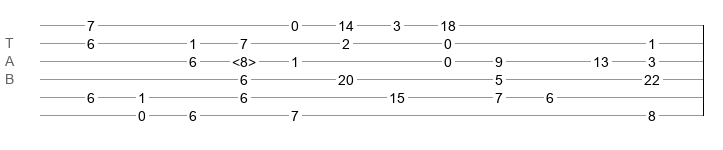0: (138, 108, 146, 118), (291, 18, 299, 28), (444, 54, 452, 64), (444, 36, 452, 46)
1: (138, 90, 146, 100), (189, 36, 197, 46), (291, 54, 299, 64), (648, 36, 656, 46)
13: (593, 54, 609, 64)
14: (338, 18, 354, 28)
15: (389, 90, 405, 100)
18: (440, 18, 456, 28)
2: (342, 36, 350, 46)
20: (338, 72, 354, 82)
22: (644, 72, 660, 82)
3: (393, 18, 401, 28), (648, 54, 656, 64)
5: (495, 72, 503, 82)
6: (87, 36, 95, 46), (87, 90, 95, 100), (189, 108, 197, 118), (189, 54, 197, 64), (240, 72, 248, 82), (240, 90, 248, 100), (546, 90, 554, 100)
7: (87, 18, 95, 28), (240, 36, 248, 46), (291, 108, 299, 118), (495, 90, 503, 100)
8: (648, 108, 656, 118)
9: (495, 54, 503, 64)
harmonic: (232, 54, 256, 64)
